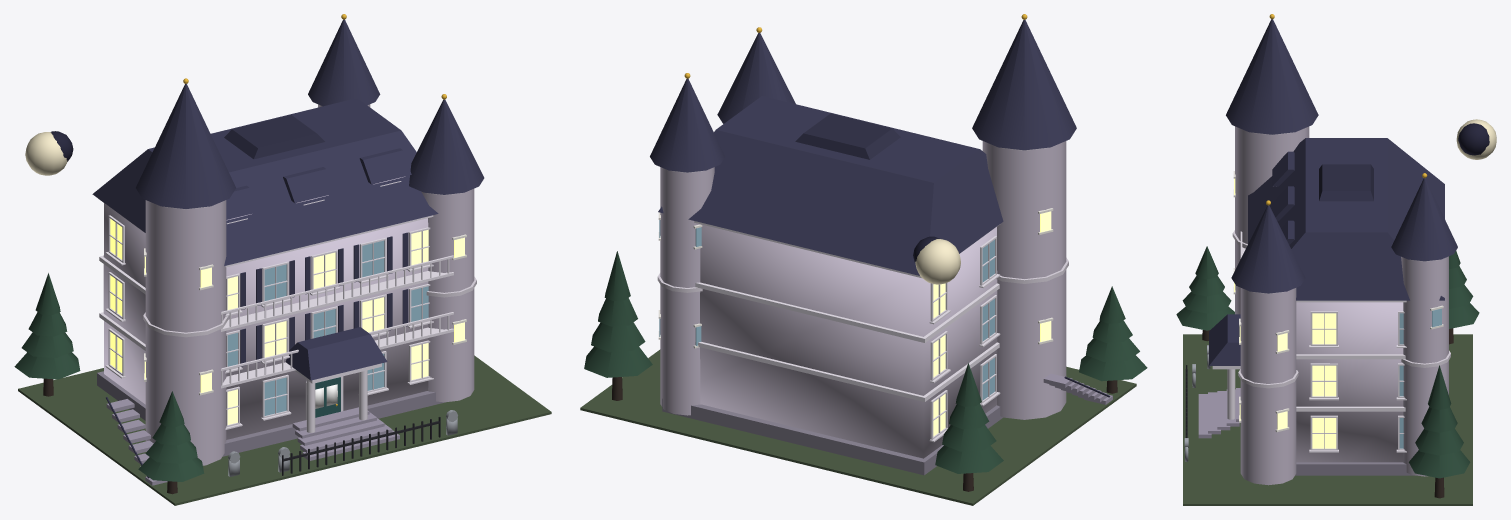
The model's file is granny_house.glb.
3 views of the same model, side by side, from view 1: azimuth 30°, elevation 25°; view 2: azimuth 150°, elevation 25°; view 3: azimuth 270°, elevation 25° (orthographic). The views are drawn at different scales.
Parts seen in each view (by area): view 1: root; view 2: root; view 3: root.
Boxes of the visible parts, x1,y1,x2,y2 form: root: (14,14,551,505); root: (580,14,1147,505); root: (1176,14,1496,505).
Bounding box in the file's own units: 23.23 × 20.69 × 17.23.
